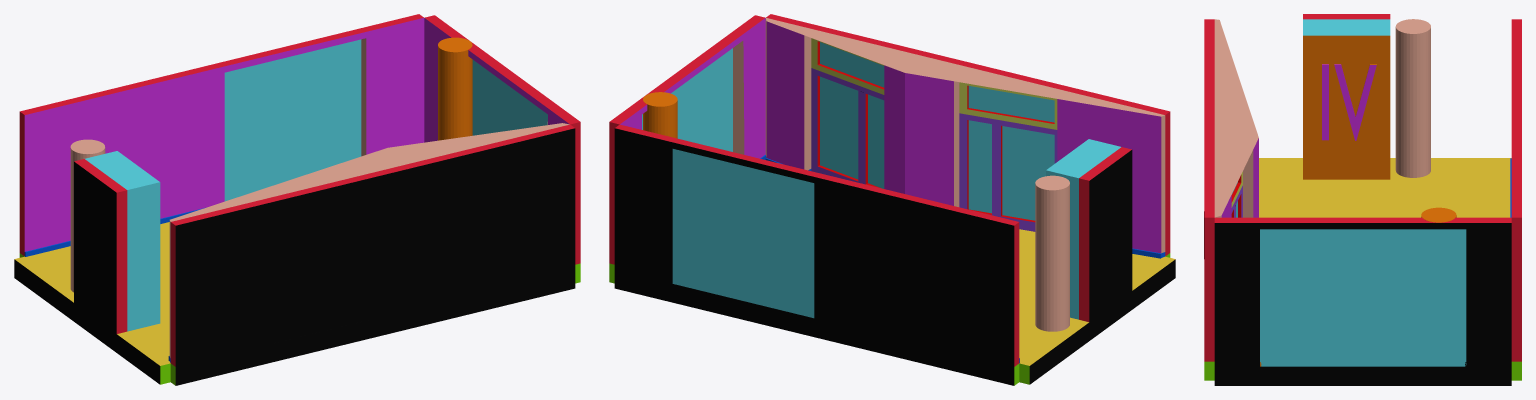
File: hallComputer.fbx
The picture shows the model from 3 angles, left to right: view 1: azimuth 30°, elevation 25°; view 2: azimuth 150°, elevation 25°; view 3: azimuth 270°, elevation 25°; orthographic projection.
Parts seen in each view (by area): view 1: wallS, wallN, wallW, doorN, wallE, floor; view 2: wallN, wallS, wallW, doorN, wallE, doorS, floor; view 3: wallE, wallW, floor, wallS, wallN.
Part boxes in pixels (<box>): wallS: <box>168,123,575,385</box>; wallN: <box>19,14,424,257</box>; wallW: <box>14,139,170,384</box>; doorN: <box>224,39,361,201</box>; wallE: <box>424,15,580,283</box>; floor: <box>26,222,170,362</box>; wallN: <box>614,124,1019,385</box>; wallS: <box>765,14,1170,258</box>; wallW: <box>1019,139,1175,384</box>; doorN: <box>672,149,814,318</box>; wallE: <box>609,15,765,283</box>; doorS: <box>811,68,861,183</box>; floor: <box>1019,229,1163,362</box>; wallE: <box>1214,207,1511,385</box>; wallW: <box>1259,14,1511,179</box>; floor: <box>1259,163,1510,217</box>; wallS: <box>1204,19,1258,380</box>; wallN: <box>1510,19,1521,380</box>.
Bounding box in the file's own units: 700 × 255 × 450.
